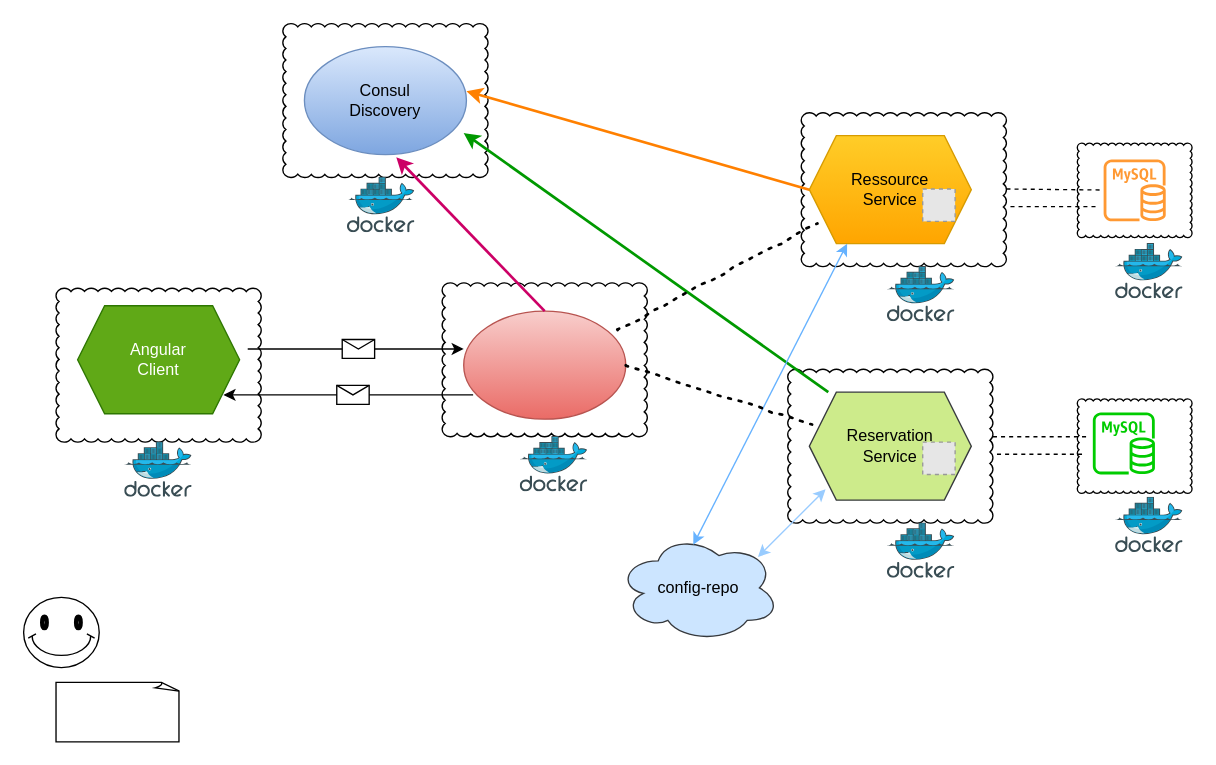
Image size: 1216x765. Some labels were removed from this diagram. Grey dashed boxes stand in for pictures. The centre of each missing label's shape, as x and y in pixels:
"Gateway" goes at pixel 544 364.
"Soufiane MOUHTARAM" goes at pixel 117 711.
